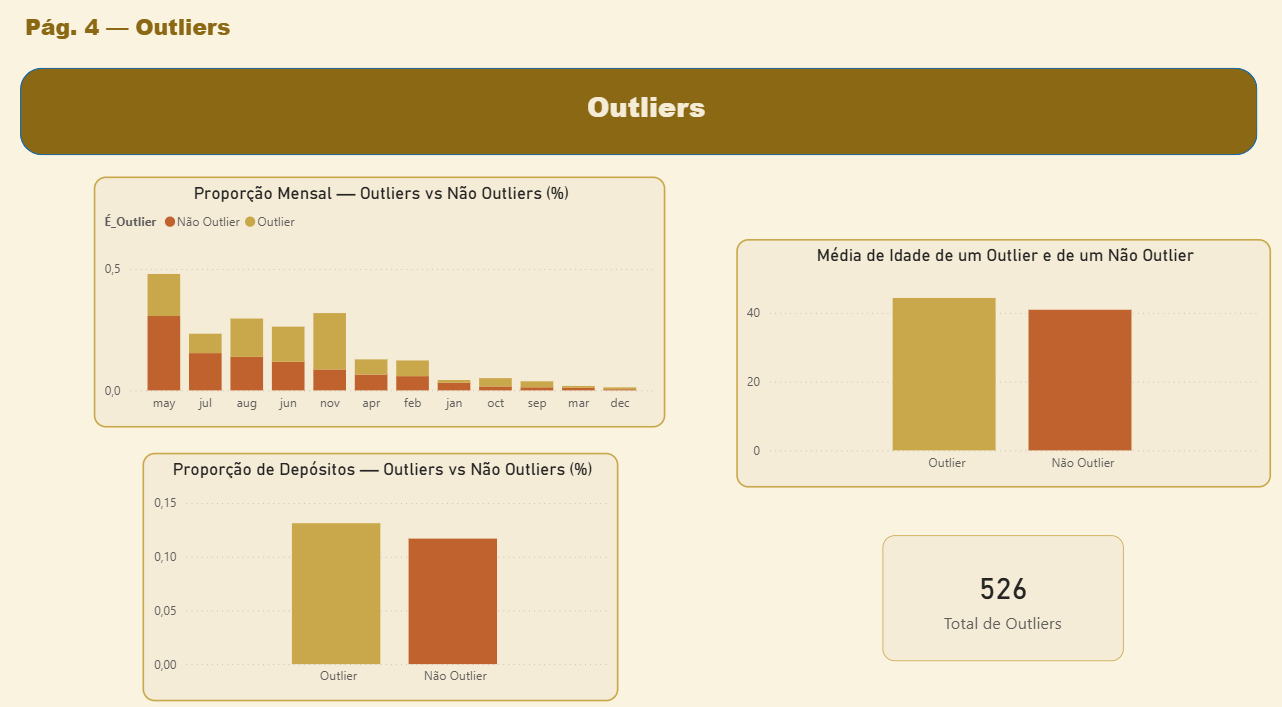

What the dashboard file says about the page in this screenshot:
{"tool":"powerbi","page":{"name":"Page 4","canvas":[1280,720],"ordinal":3},"visuals":[{"type":"textbox","box":[34.2,26.9,352.2,51.4],"z":0},{"type":"shape","title":"ANÁLISE DE CLIENTES BANCÁRIOS","box":[34.2,86.8,1210.6,85.6],"z":1000},{"type":"textbox","box":[398.7,100.3,496.5,57.5],"z":2000},{"type":"columnChart","title":"Proporção de Depósitos — Outliers vs Não Outliers (%)","fields":{"Y":["Medidas.Taxa_Conversao_Y"],"Category":["bank-full.É_Outlier"]},"box":[154.1,463.5,466,243.4],"z":3000},{"type":"columnChart","title":"Média de Idade de um Outlier e de um Não Outlier","fields":{"Category":["bank-full.É_Outlier"],"Y":["Avg(bank-full.age)"]},"box":[735,254.4,523.5,243.4],"z":4000},{"type":"columnChart","title":"Proporção Mensal — Outliers vs Não Outliers (%)","fields":{"Category":["bank-full.month"],"Series":["bank-full.É_Outlier"],"Y":["Medidas.Percentagem_Mes"]},"box":[106.4,193.2,558.9,245.8],"z":5000},{"type":"card","fields":{"Values":["Medidas.Total de Outliers"]},"box":[878.1,544.2,236,123.5],"z":6000}]}

Visuals, with their boxes in screenshot pixels (x1, y1, x2, y2), scaled from the page's 1280x720 canvas onto the 1282x707 screenshot:
textbox: x1=34, y1=26, x2=387, y2=77
"ANÁLISE DE CLIENTES BANCÁRIOS" shape: x1=34, y1=85, x2=1247, y2=169
textbox: x1=399, y1=98, x2=897, y2=155
"Proporção de Depósitos — Outliers vs Não Outliers (%)" columnChart: x1=154, y1=455, x2=621, y2=694
"Média de Idade de um Outlier e de um Não Outlier" columnChart: x1=736, y1=250, x2=1260, y2=489
"Proporção Mensal — Outliers vs Não Outliers (%)" columnChart: x1=107, y1=190, x2=666, y2=431
card - Medidas.Total de Outliers: x1=879, y1=534, x2=1116, y2=656
